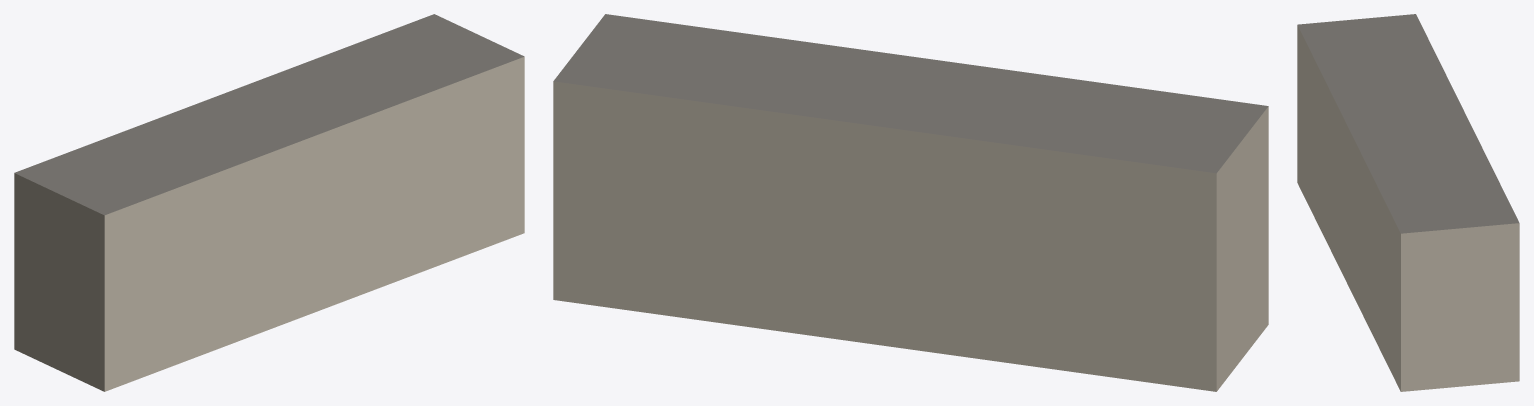
The picture shows the model from 3 angles, left to right: view 1: azimuth 30°, elevation 25°; view 2: azimuth 150°, elevation 25°; view 3: azimuth 270°, elevation 25°; orthographic projection. The views are drawn at different scales.
Parts seen in each view (by area): view 1: HP-w1286955525; view 2: HP-w1286955525; view 3: HP-w1286955525.
Part boxes in pixels (x1=…): HP-w1286955525: x1=14, y1=14, x2=524, y2=391; HP-w1286955525: x1=553, y1=14, x2=1268, y2=391; HP-w1286955525: x1=1297, y1=14, x2=1519, y2=391.
Bounding box in the file's own units: 53.58 × 18 × 22.91.
